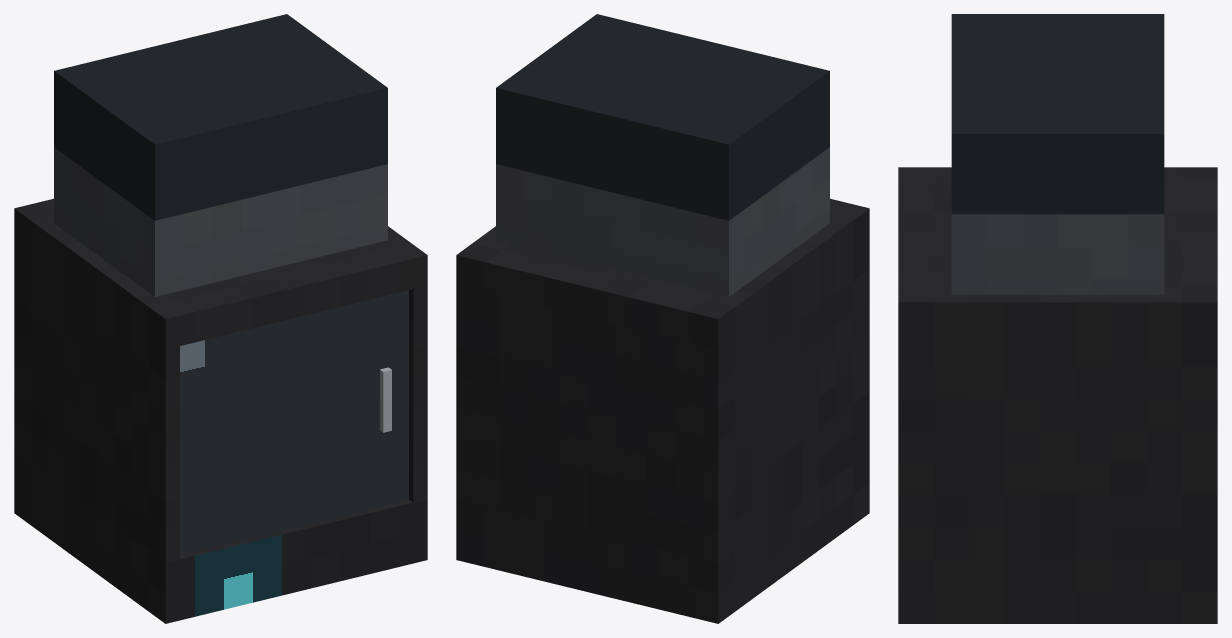
The model's file is printer_3d.glb.
The picture shows the model from 3 angles, left to right: view 1: azimuth 30°, elevation 25°; view 2: azimuth 150°, elevation 25°; view 3: azimuth 270°, elevation 25°; orthographic projection. The views are drawn at different scales.
Parts seen in each view (by area): view 1: glass_ams_lid, glass_door, side_left, base, ams_body, top, side_right, door_handle; view 2: back, glass_ams_lid, side_left, ams_body, base, top, side_right; view 3: side_right, glass_ams_lid, top, base, ams_body.
Boxes of the visible parts, x1,y1,x2,y2 form: glass_ams_lid: (54, 14, 387, 220); glass_door: (180, 290, 408, 555); side_left: (14, 239, 179, 562); base: (14, 452, 427, 623); ams_body: (54, 147, 387, 296); top: (14, 198, 427, 349); side_right: (409, 285, 427, 502); door_handle: (380, 367, 391, 432); back: (470, 289, 703, 559); glass_ams_lid: (496, 14, 829, 220); side_left: (704, 239, 869, 562); ams_body: (496, 147, 829, 296); base: (456, 452, 869, 623); top: (456, 198, 869, 349); side_right: (456, 285, 470, 502); side_right: (898, 334, 1217, 559); glass_ams_lid: (951, 14, 1164, 214); top: (898, 167, 1217, 334); base: (898, 559, 1217, 623); ams_body: (951, 214, 1164, 294).
Size of the model in its own units: 0.5625 by 0.9375 by 0.5625.
1 material, 1 textured.
